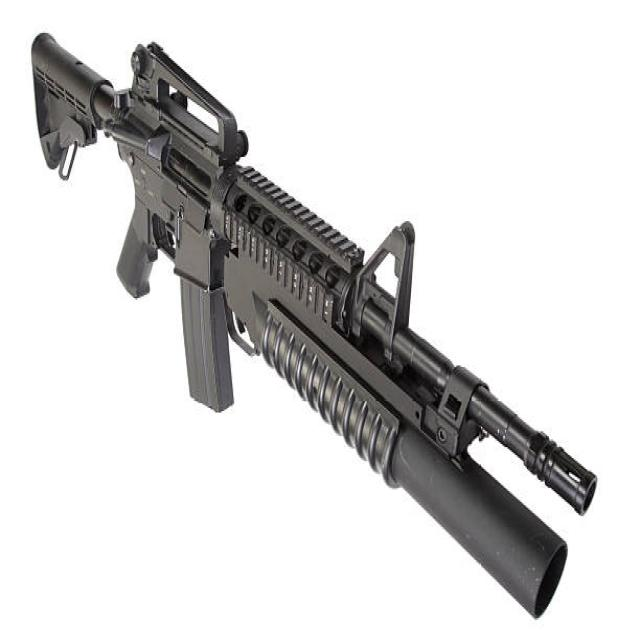rifle: (18, 21, 607, 630)
